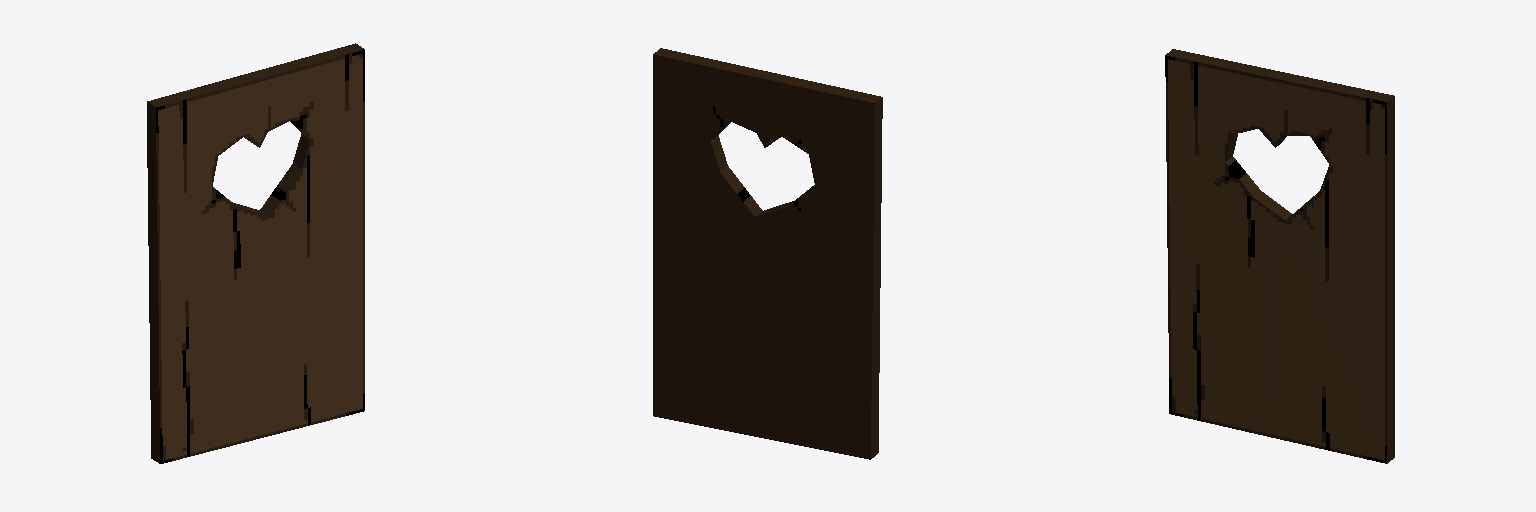
3 views of the same model, side by side, from view 1: azimuth 30°, elevation 25°; view 2: azimuth 150°, elevation 25°; view 3: azimuth 330°, elevation 25° (orthographic).
Visible parts, largest first — view 1: Door; view 2: Door; view 3: Door.
Part boxes in pixels (x1,y1,x2,y2): Door: (147, 43, 364, 463); Door: (653, 48, 882, 459); Door: (1165, 49, 1394, 463).
Size of the model in its own units: 1.85 by 2.96 by 0.2229.
Materials: 1 (1 with a texture image).